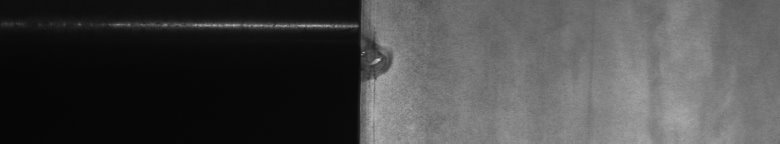hb: (372, 28, 400, 92)
